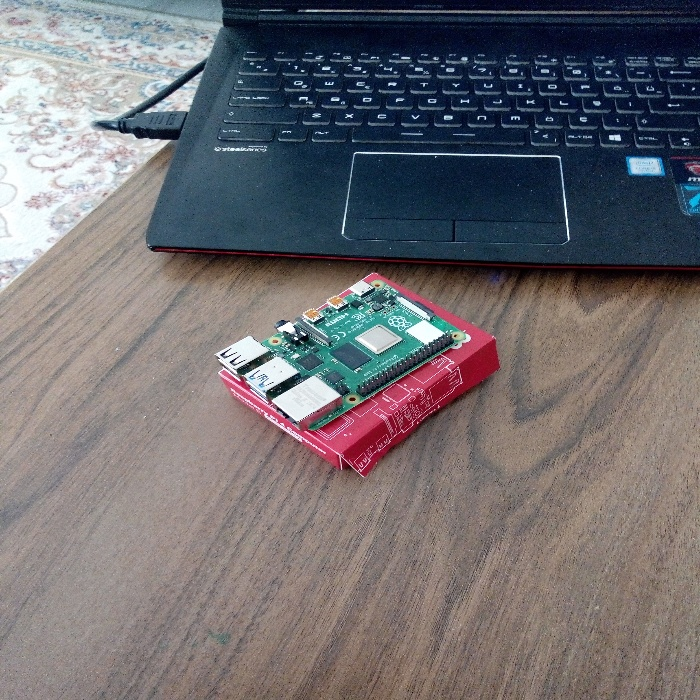raspberry: (207, 257, 453, 432)
